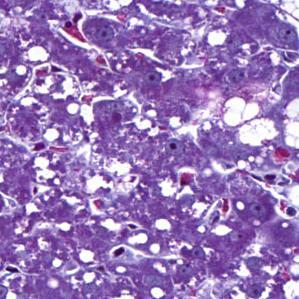ballooning: (216, 93, 282, 151)
